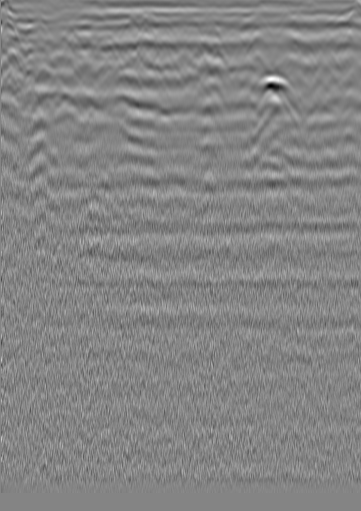가스: (249, 188, 288, 223)
상수: (15, 21, 35, 41)
오수: (317, 40, 337, 60)
우수: (150, 37, 170, 57)
